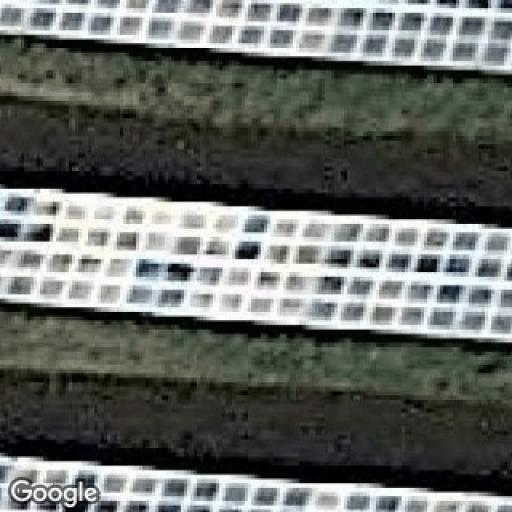solar-panel: (0, 186, 512, 339), (0, 0, 512, 70), (6, 461, 512, 512)
